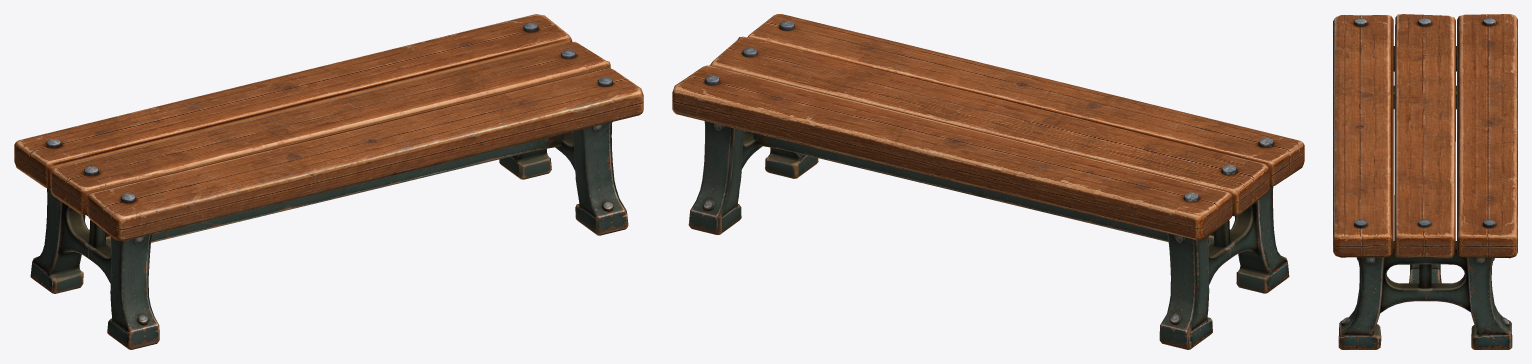
File: P08_sidewalk_bench_Runtime_1k.glb
3 renders of one model, left to right at view 1: azimuth 30°, elevation 25°; view 2: azimuth 150°, elevation 25°; view 3: azimuth 270°, elevation 25°, orthographic. The views are drawn at different scales.
Parts seen in each view (by area): view 1: tripo_63fd41b0_2210_48c4_8fb3_afe50a209fe9; view 2: tripo_63fd41b0_2210_48c4_8fb3_afe50a209fe9; view 3: tripo_63fd41b0_2210_48c4_8fb3_afe50a209fe9.
Part boxes in pixels (x1,y1,x2,y2): tripo_63fd41b0_2210_48c4_8fb3_afe50a209fe9: (14,14,643,349); tripo_63fd41b0_2210_48c4_8fb3_afe50a209fe9: (672,14,1304,349); tripo_63fd41b0_2210_48c4_8fb3_afe50a209fe9: (1333,14,1517,349).
Bounding box in the file's own units: 1.73 × 0.45 × 0.6037.
1 material, 1 textured.
